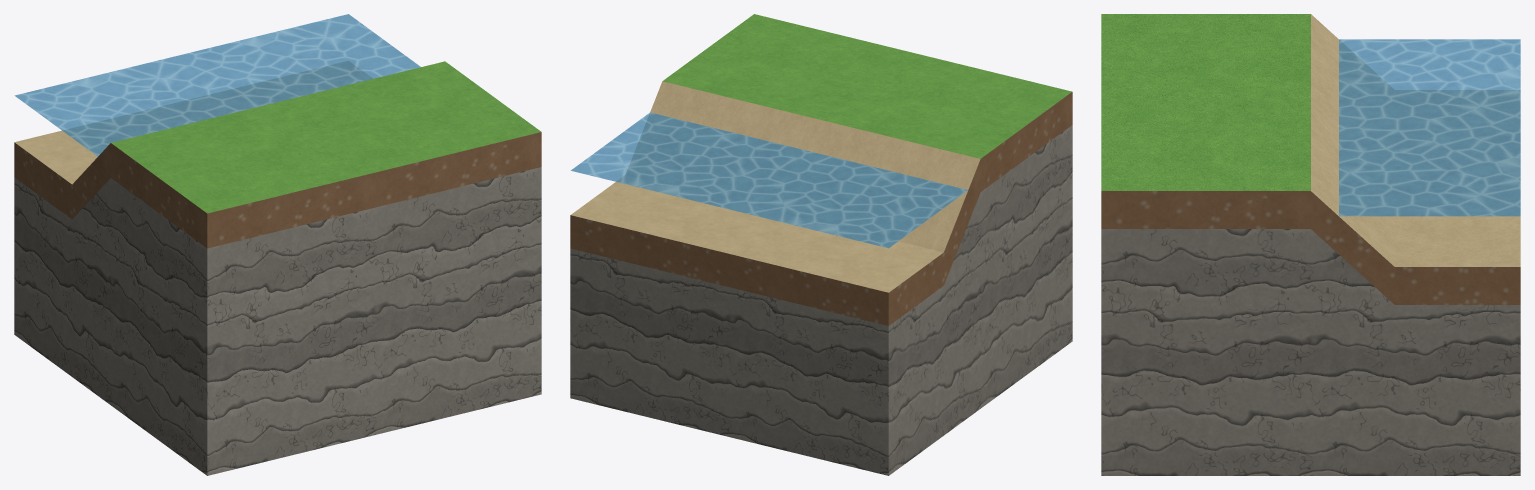
The model's file is Water_Edge_U.fbx.
3 views of the same model, side by side, from view 1: azimuth 30°, elevation 25°; view 2: azimuth 150°, elevation 25°; view 3: azimuth 270°, elevation 25° (orthographic). The views are drawn at different scales.
Parts seen in each view (by area): view 1: Water_Edge_U, Water_Edge_U_Water; view 2: Water_Edge_U, Water_Edge_U_Water; view 3: Water_Edge_U, Water_Edge_U_Water.
Boxes of the visible parts, box(x1,y1,x2,y2) form: Water_Edge_U: box(14, 61, 541, 475); Water_Edge_U_Water: box(14, 14, 420, 156); Water_Edge_U: box(570, 14, 1072, 475); Water_Edge_U_Water: box(571, 112, 967, 248); Water_Edge_U: box(1101, 14, 1520, 475); Water_Edge_U_Water: box(1339, 39, 1520, 216).
Size of the model in its own units: 3 by 2.25 by 3.
5 materials, 5 textured.
